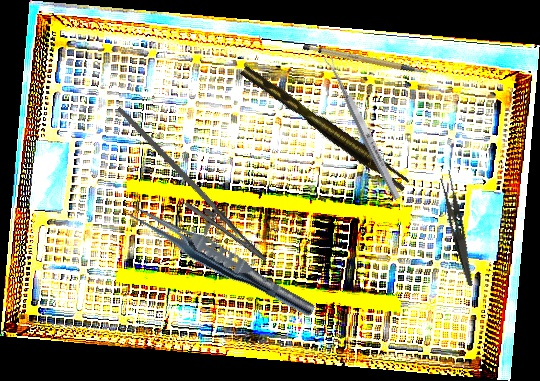Dressing Forceps: (433, 169, 486, 287)
Needle Holder: (90, 106, 284, 275)
Scalpel Handle: (301, 28, 429, 94)
Surgical Spoon: (322, 52, 403, 202)
Tissue Forceps: (120, 198, 321, 322), (240, 57, 411, 197)
